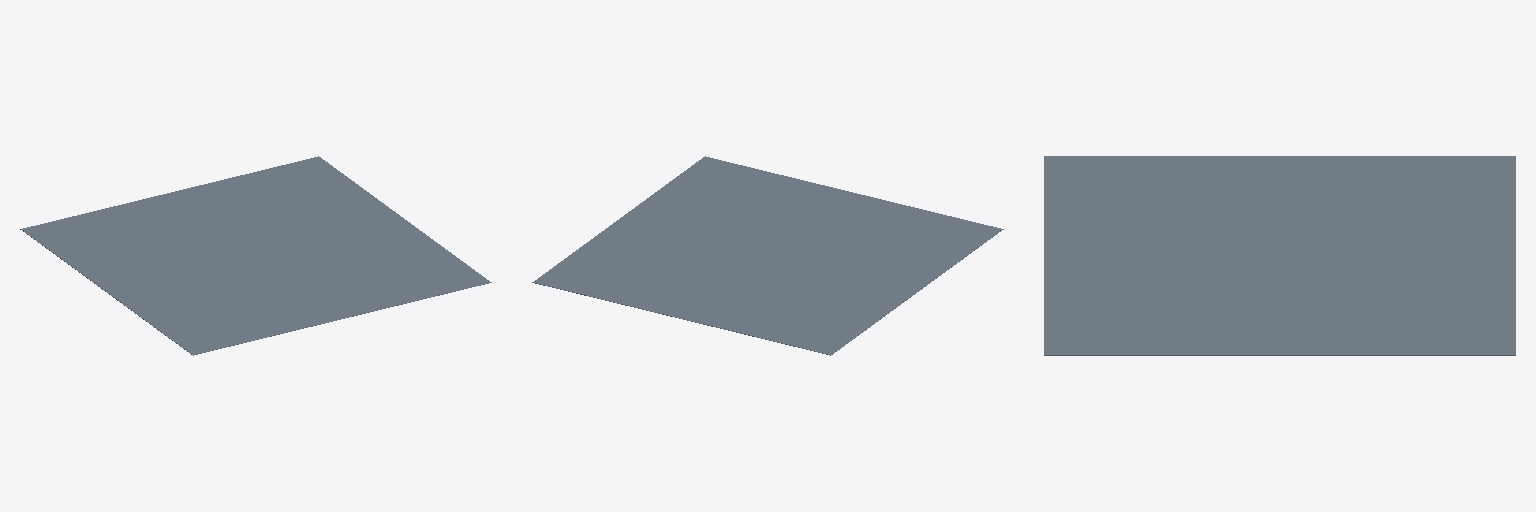
The robot description file, URDF, robot "ground":
<?xml version="1.0" ?>
<!-- =================================================================================== -->
<!-- |    This document was autogenerated by xacro from ground.urdf.xacro              | -->
<!-- |    EDITING THIS FILE BY HAND IS NOT RECOMMENDED                                 | -->
<!-- =================================================================================== -->
<robot name="ground">
  <link name="ground_link">
    <visual>
      <geometry>
        <box size="10.0 10.0 0.01"/>
      </geometry>
        <material name="floor">
          <color rgba="0.50 0.55 0.60 1"/>
        </material>
    </visual>
    <collision>
      <geometry>
        <box size="10.0 10.0 0.01"/>
      </geometry>
    </collision>
  </link>
</robot>

--- Render facts (derived) ---
3 views of the same robot in one strip: view 1: azimuth 30°, elevation 25°; view 2: azimuth 150°, elevation 25°; view 3: azimuth 270°, elevation 25° (orthographic).
Robot: ground — 1 links, 0 joints (none); root link ground_link; default pose: all joints at 0.
Links seen in each view (by area): view 1: ground_link; view 2: ground_link; view 3: ground_link.
Boxes of the visible links, x1,y1,x2,y2 form: ground_link: (20,156,491,355); ground_link: (532,156,1003,355); ground_link: (1044,156,1515,355).
Size in the robot's own frame: 10 by 10 by 0.01 metres.
Geometry: primitives only (box / cylinder / sphere), no mesh files.
